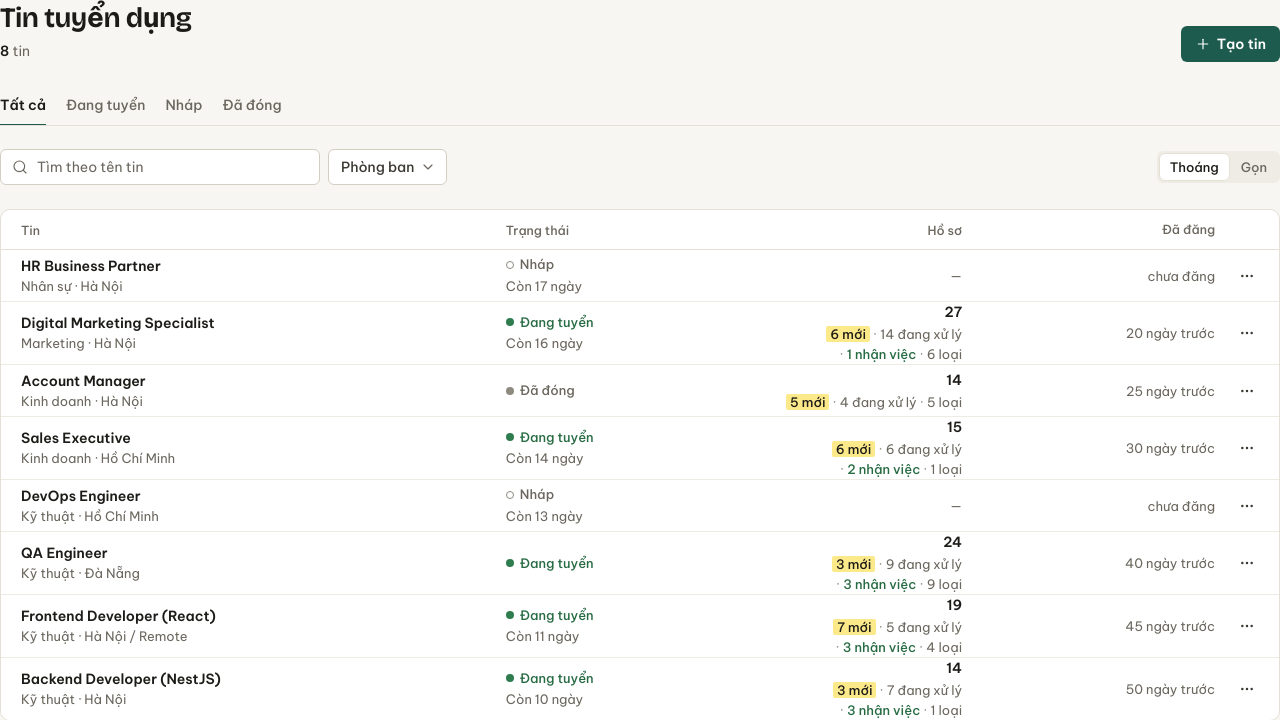
detail dialog › opens the HR upload dialog from the job popup footer
The image size is (1280, 720).
Click the row "Backend Developer (NestJS)": (245, 689) [1, 658, 1279, 719]
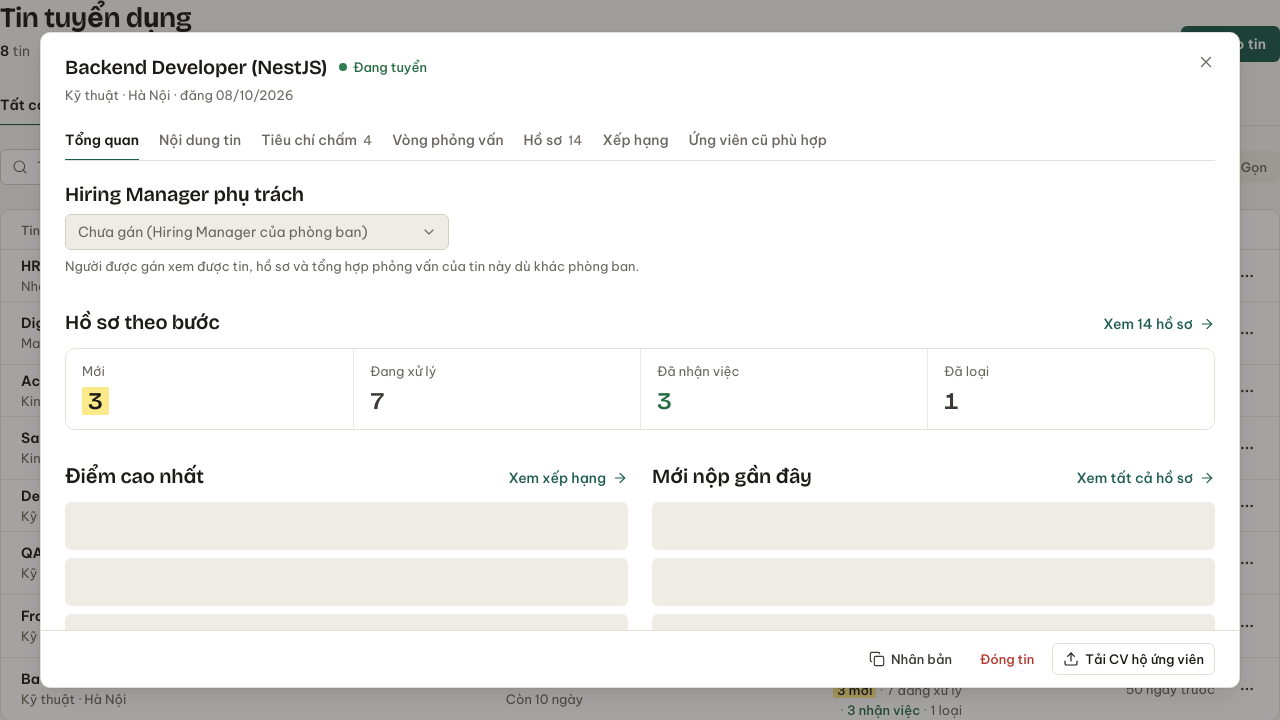
Click the button "Tải CV hộ ứng viên": (1134, 659) [1052, 643, 1215, 675]
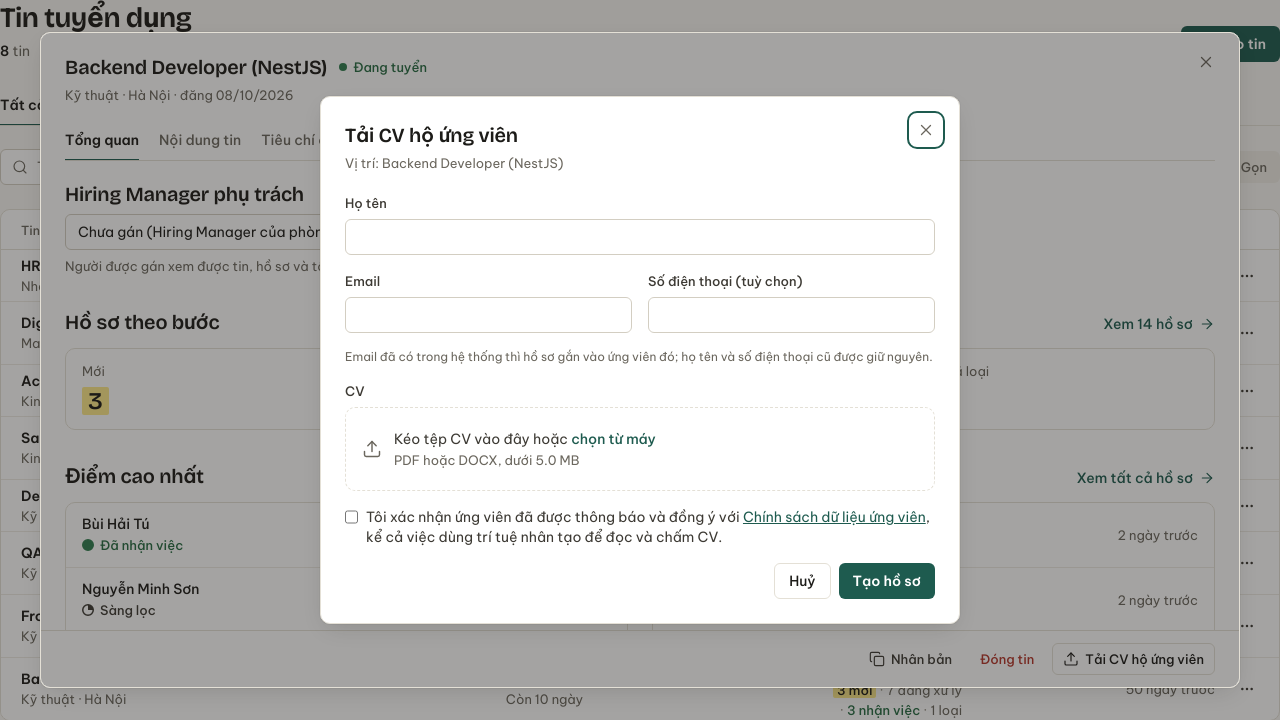
Result: the dialog "Tải CV hộ ứng viên" is shown at [320, 96, 960, 624]
